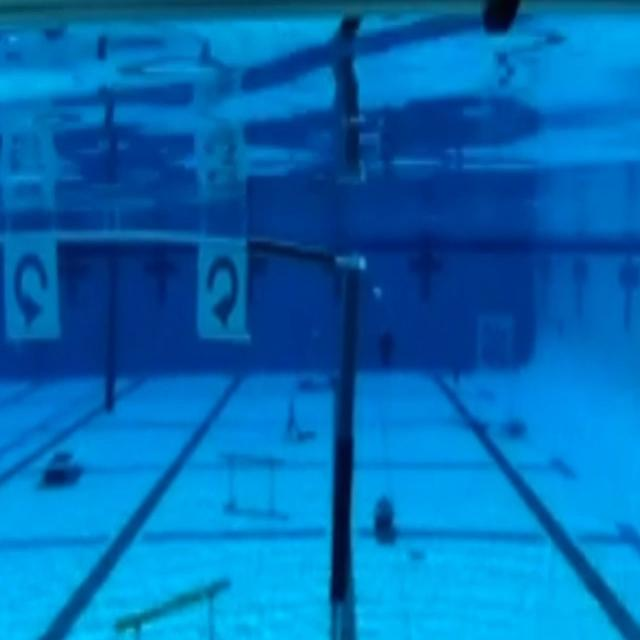Gate: (7, 228, 354, 602)
